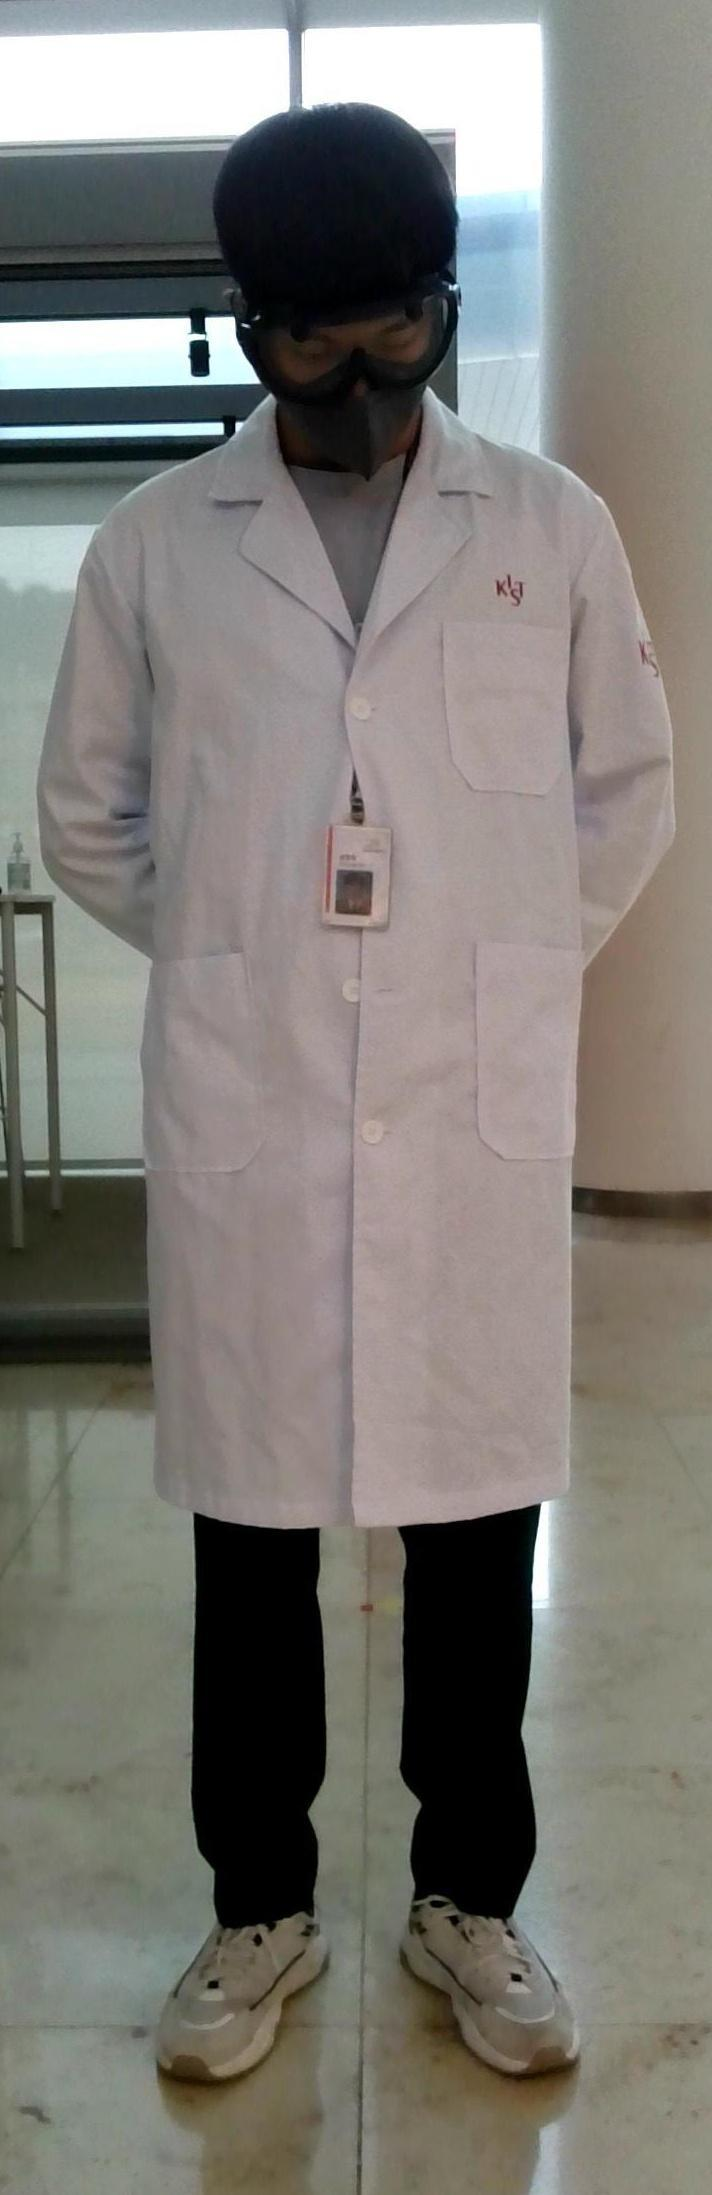lab_coat: (27, 456, 688, 1495)
